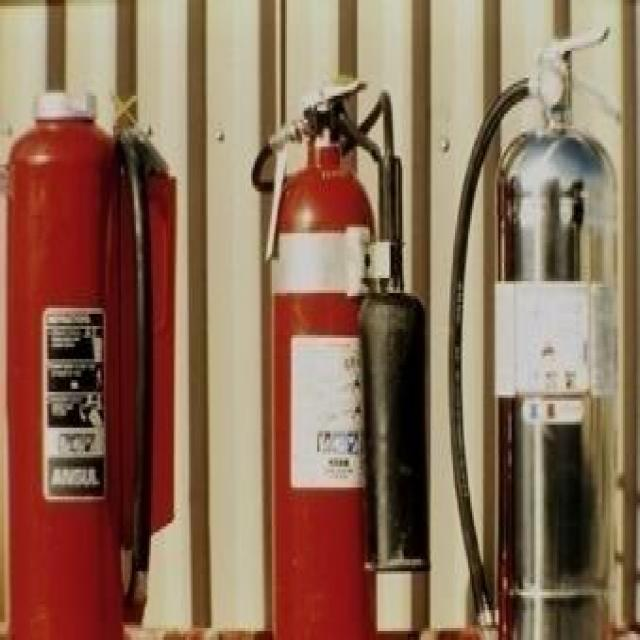fire_extinguisher: (442, 15, 638, 637), (247, 69, 436, 637), (0, 66, 159, 637)
